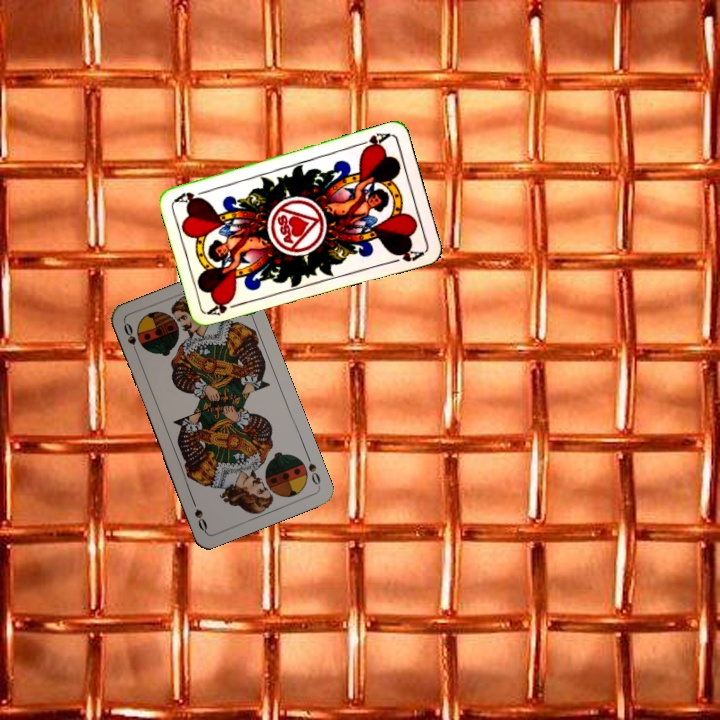HA: (353, 128, 393, 153), (205, 296, 245, 318)
SO: (120, 319, 141, 358), (302, 450, 323, 489)
